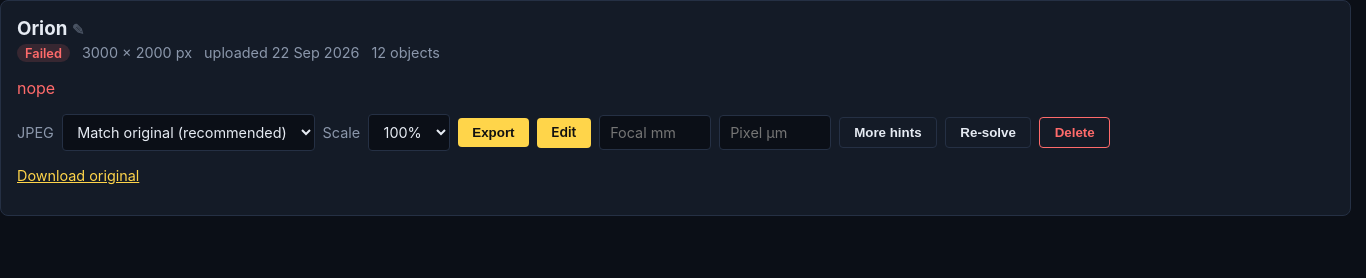
Test: ImageCard re-solve hints › keeps downsample and the position hint behind a toggle
This screenshot has width=1366, height=278.
Expected: the field labelled "Downsample" is not shown
Click the button "More hints": click(888, 133) top-left (839, 117), bottom-right (937, 148)
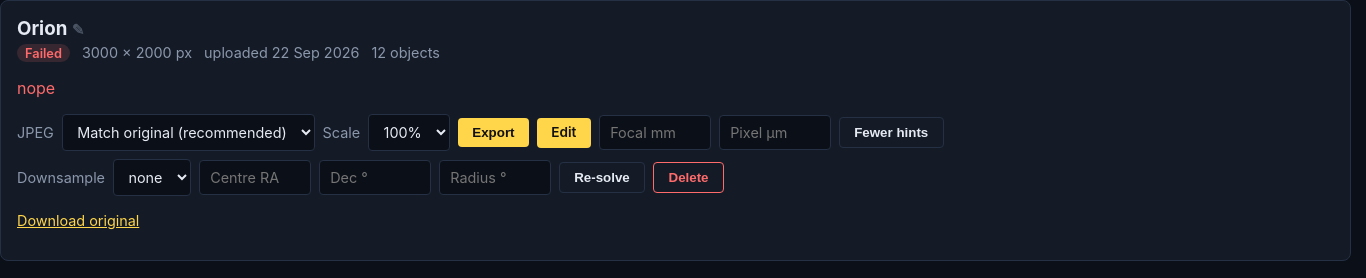
Expected: the dropdown labelled "Downsample" is shown, top-left (113, 159), bottom-right (191, 196)
Expected: the number field labelled "Centre RA °" is shown, top-left (199, 160), bottom-right (311, 195)
Click the button "Fewer hints": click(891, 133) top-left (839, 117), bottom-right (944, 148)
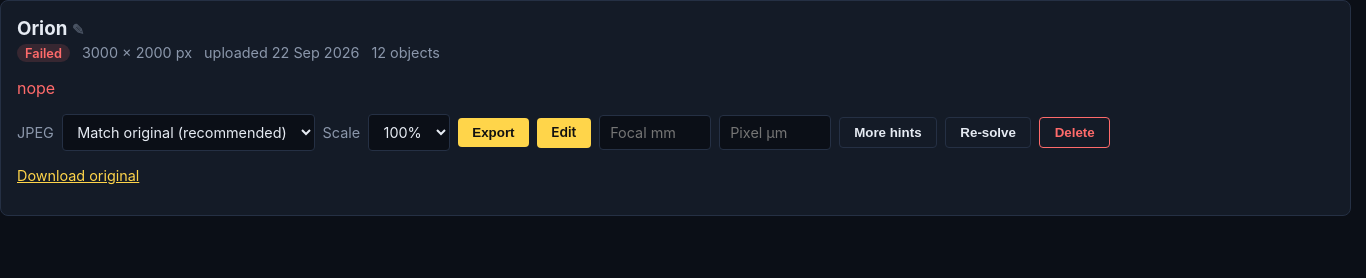
Expected: the label labelled "Downsample" is gone
